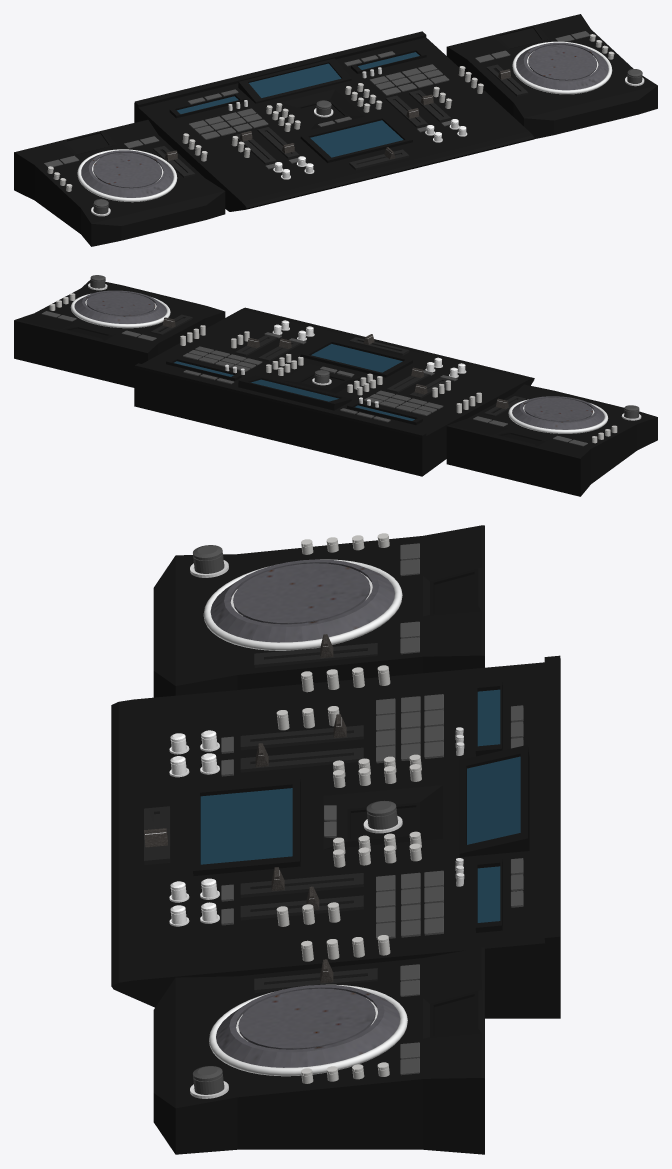
File: turn_table.glb
3 views of the same model, one above another, from view 1: azimuth 30°, elevation 25°; view 2: azimuth 150°, elevation 25°; view 3: azimuth 270°, elevation 25° (orthographic). The views are drawn at different scales.
Visible parts, largest first — view 1: Cube, Cube.002, Cube.001, Circle, Circle.001, Cube.024, BezierCircle, BezierCircle.001, Cube.025, Cube.026, Cube.003, Cube.005 (+5 smaller); view 2: Cube, Cube.002, Cube.001, Circle.001, Circle, Cube.024, BezierCircle.001, BezierCircle, Cube.025, Cube.026, Cube.003; view 3: Cube, Cube.001, Cube.002, Circle, Circle.001, Cube.024, BezierCircle.001, BezierCircle, Cube.025, Cube.026, Cube.011, Cube.005 (+10 smaller).
Boxes of the visible parts, bbox=[...] form: Cube: bbox=[134, 31, 534, 211]; Cube.002: bbox=[14, 119, 225, 246]; Cube.001: bbox=[446, 14, 657, 139]; Circle: bbox=[516, 42, 608, 90]; Circle.001: bbox=[81, 150, 173, 197]; Cube.024: bbox=[300, 115, 412, 162]; BezierCircle: bbox=[512, 41, 612, 94]; BezierCircle.001: bbox=[77, 149, 177, 202]; Cube.025: bbox=[351, 49, 426, 73]; Cube.026: bbox=[169, 93, 245, 118]; Cube.003: bbox=[349, 149, 409, 170]; Cube.005: bbox=[385, 95, 427, 127]; Cube: bbox=[134, 307, 534, 476]; Cube.002: bbox=[446, 384, 657, 496]; Cube.001: bbox=[14, 280, 225, 387]; Circle.001: bbox=[512, 396, 604, 429]; Circle: bbox=[74, 290, 166, 323]; Cube.024: bbox=[300, 339, 412, 377]; BezierCircle.001: bbox=[508, 399, 608, 433]; BezierCircle: bbox=[70, 293, 170, 328]; Cube.025: bbox=[166, 358, 241, 380]; Cube.026: bbox=[347, 402, 422, 424]; Cube.003: bbox=[349, 337, 409, 355]; Cube: bbox=[111, 655, 560, 1018]; Cube.001: bbox=[153, 947, 484, 1154]; Cube.002: bbox=[153, 525, 484, 697]; Circle: bbox=[216, 984, 400, 1067]; Circle.001: bbox=[210, 559, 394, 642]; Cube.024: bbox=[193, 778, 300, 876]; BezierCircle.001: bbox=[203, 559, 402, 650]; BezierCircle: bbox=[209, 984, 407, 1076]; Cube.025: bbox=[475, 858, 502, 932]; Cube.026: bbox=[475, 681, 502, 756]; Cube.011: bbox=[240, 725, 363, 750]; Cube.005: bbox=[240, 873, 363, 897].
Bounding box in the file's own units: 8.46 × 0.6178 × 2.91.
Materials: 14 (10 with a texture image).
